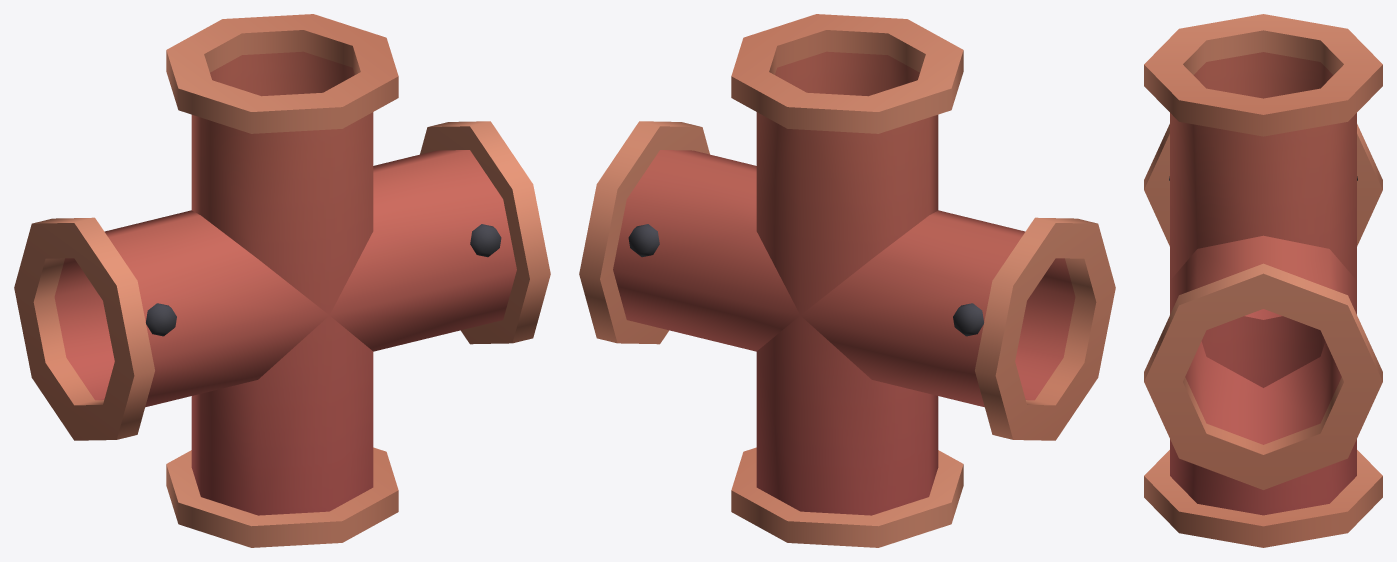
The model's file is pipe-large-cross.obj.
3 renders of one model, left to right at view 1: azimuth 30°, elevation 25°; view 2: azimuth 150°, elevation 25°; view 3: azimuth 270°, elevation 25°, orthographic.
Parts seen in each view (by area): view 1: pipe-large-cross; view 2: pipe-large-cross; view 3: pipe-large-cross.
Part boxes in pixels (x1,y1,x2,y2): pipe-large-cross: (14, 14, 550, 547); pipe-large-cross: (579, 14, 1115, 547); pipe-large-cross: (1144, 14, 1382, 547).
Size of the model in its own units: 2 by 2 by 1.
